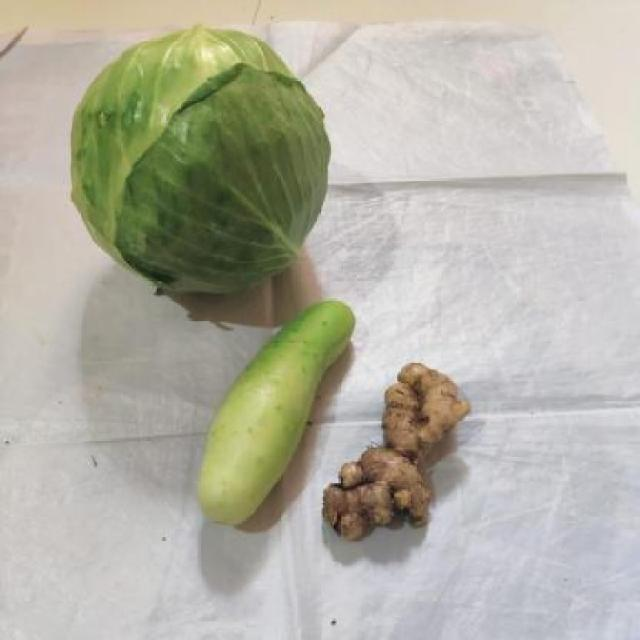Cabbage: (64, 27, 330, 296)
Ginger: (328, 368, 470, 534)
cucumber: (202, 300, 324, 512)
